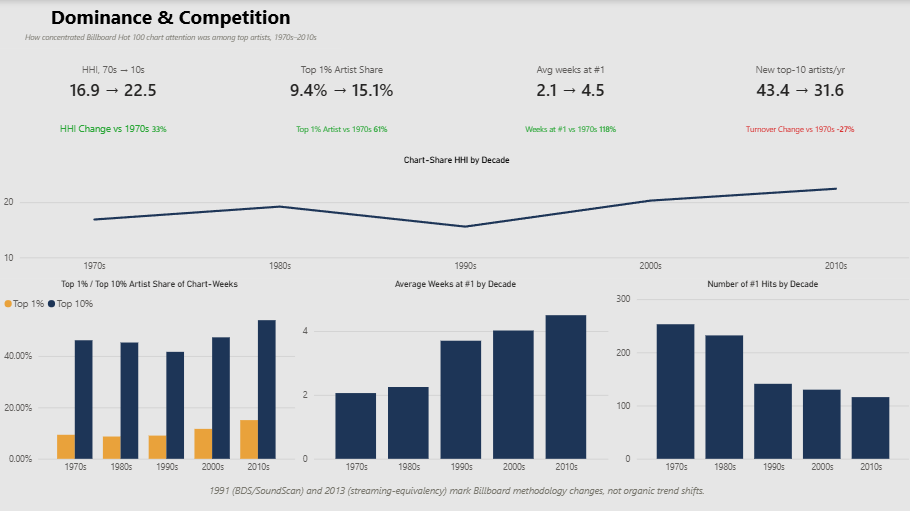

This screenshot's page, from the dashboard's own definition file:
{"tool":"powerbi","page":{"name":" Dominance & Competition","canvas":[1280,720],"ordinal":0},"visuals":[{"type":"cardVisual","fields":{"Data":["decade_metrics_summary.Top1Pct Trend Display"]},"box":[315.6,68,325,149.3],"z":0},{"type":"cardVisual","fields":{"Data":["decade_metrics_summary.HHI Trend Display"]},"box":[0,68,315.6,149.3],"z":1000},{"type":"cardVisual","fields":{"Data":["decade_metrics_summary.AvgWeeksNo1 Trend Display"]},"box":[638.7,68,319.4,149.3],"z":2000},{"type":"cardVisual","fields":{"Data":["decade_metrics_summary.Turnover Trend Display"]},"box":[960,68,319.4,149.3],"z":3000},{"type":"lineChart","title":"Chart-Share HHI by Decade","fields":{"Y":["Sum(decade_metrics_summary.hhi_chart_share)"],"Category":["decade_metrics_summary.decade"]},"box":[0,217.3,1279.4,173.9],"z":4000},{"type":"clusteredColumnChart","title":"Top 1% / Top 10% Artist Share of Chart-Weeks","fields":{"Category":["decade_metrics_summary.decade"],"Y":["Sum(decade_metrics_summary.top1pct_artist_share_of_weeks)","Sum(decade_metrics_summary.top10pct_artist_share_of_weeks)"]},"box":[0,390.7,418,281.5],"z":5000},{"type":"columnChart","title":"Number of #1 Hits by Decade","fields":{"Category":["decade_metrics_summary.decade"],"Y":["Sum(decade_metrics_summary.num_number_one_songs)"]},"box":[857.1,390.7,422.2,281.5],"z":6000},{"type":"columnChart","title":"Average Weeks at #1 by Decade","fields":{"Category":["decade_metrics_summary.decade"],"Y":["Sum(decade_metrics_summary.avg_weeks_at_number_one)"]},"box":[418,390.7,439,281.5],"z":7000},{"type":"textbox","box":[0,0,478.1,68],"z":8000},{"type":"textbox","box":[0,672.2,1279.3,48.3],"z":9000}]}

Visuals, with their boxes in screenshot pixels (x1, y1, x2, y2), scaled from the page's 1280x720 canvas onto the 910x511 screenshot:
cardVisual - decade_metrics_summary.Top1Pct Trend Display: 224, 48, 455, 154
cardVisual - decade_metrics_summary.HHI Trend Display: 0, 48, 224, 154
cardVisual - decade_metrics_summary.AvgWeeksNo1 Trend Display: 454, 48, 681, 154
cardVisual - decade_metrics_summary.Turnover Trend Display: 682, 48, 909, 154
"Chart-Share HHI by Decade" lineChart: 0, 154, 909, 278
"Top 1% / Top 10% Artist Share of Chart-Weeks" clusteredColumnChart: 0, 277, 297, 477
"Number of #1 Hits by Decade" columnChart: 609, 277, 909, 477
"Average Weeks at #1 by Decade" columnChart: 297, 277, 609, 477
textbox: 0, 0, 340, 48
textbox: 0, 477, 909, 510
